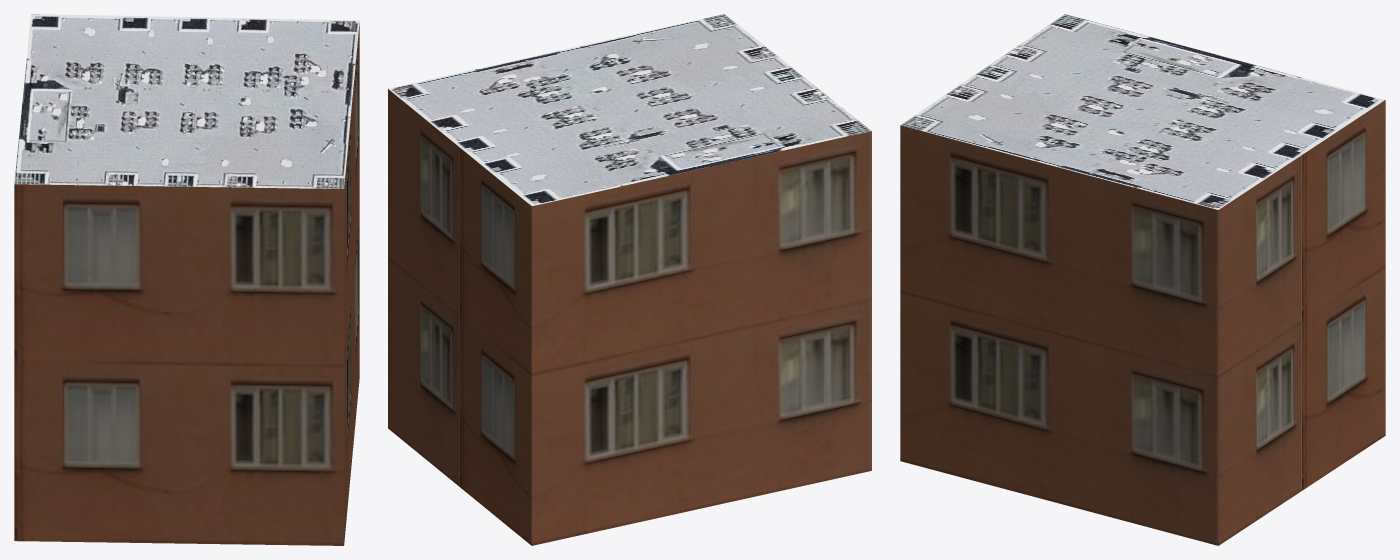
File: ResTex__683.fbx
3 views of the same model, side by side, from view 1: azimuth 30°, elevation 25°; view 2: azimuth 150°, elevation 25°; view 3: azimuth 270°, elevation 25° (orthographic). The views are drawn at different scales.
Visible parts, largest first — view 1: CityEngineMaterial_20_m, CityEngineMaterial_8_m; view 2: CityEngineMaterial_20_m, CityEngineMaterial_8_m; view 3: CityEngineMaterial_20_m, CityEngineMaterial_8_m.
Boxes of the visible parts, x1,y1,x2,y2 form: CityEngineMaterial_20_m: (14, 23, 359, 545); CityEngineMaterial_8_m: (14, 14, 359, 188); CityEngineMaterial_20_m: (388, 89, 871, 545); CityEngineMaterial_8_m: (388, 14, 871, 206); CityEngineMaterial_20_m: (900, 100, 1385, 545); CityEngineMaterial_8_m: (901, 14, 1384, 209).
Size of the model in its own units: 7.51 by 6 by 7.85.
2 materials, 2 textured.
